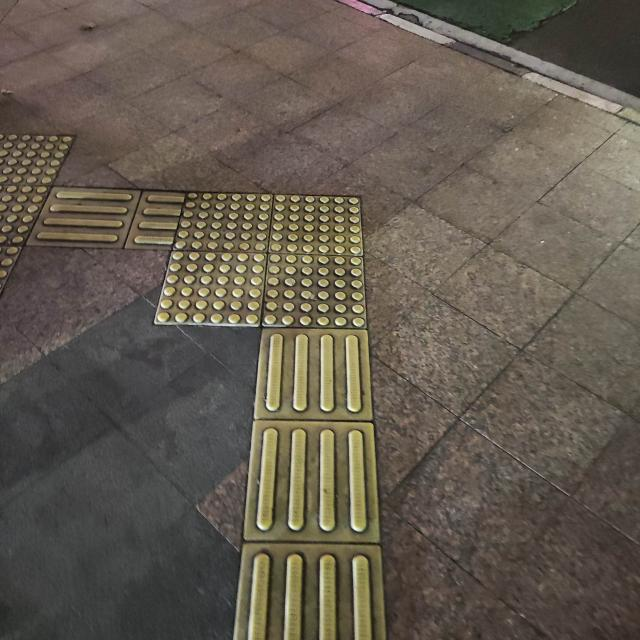kiri: (68, 179, 403, 397)
